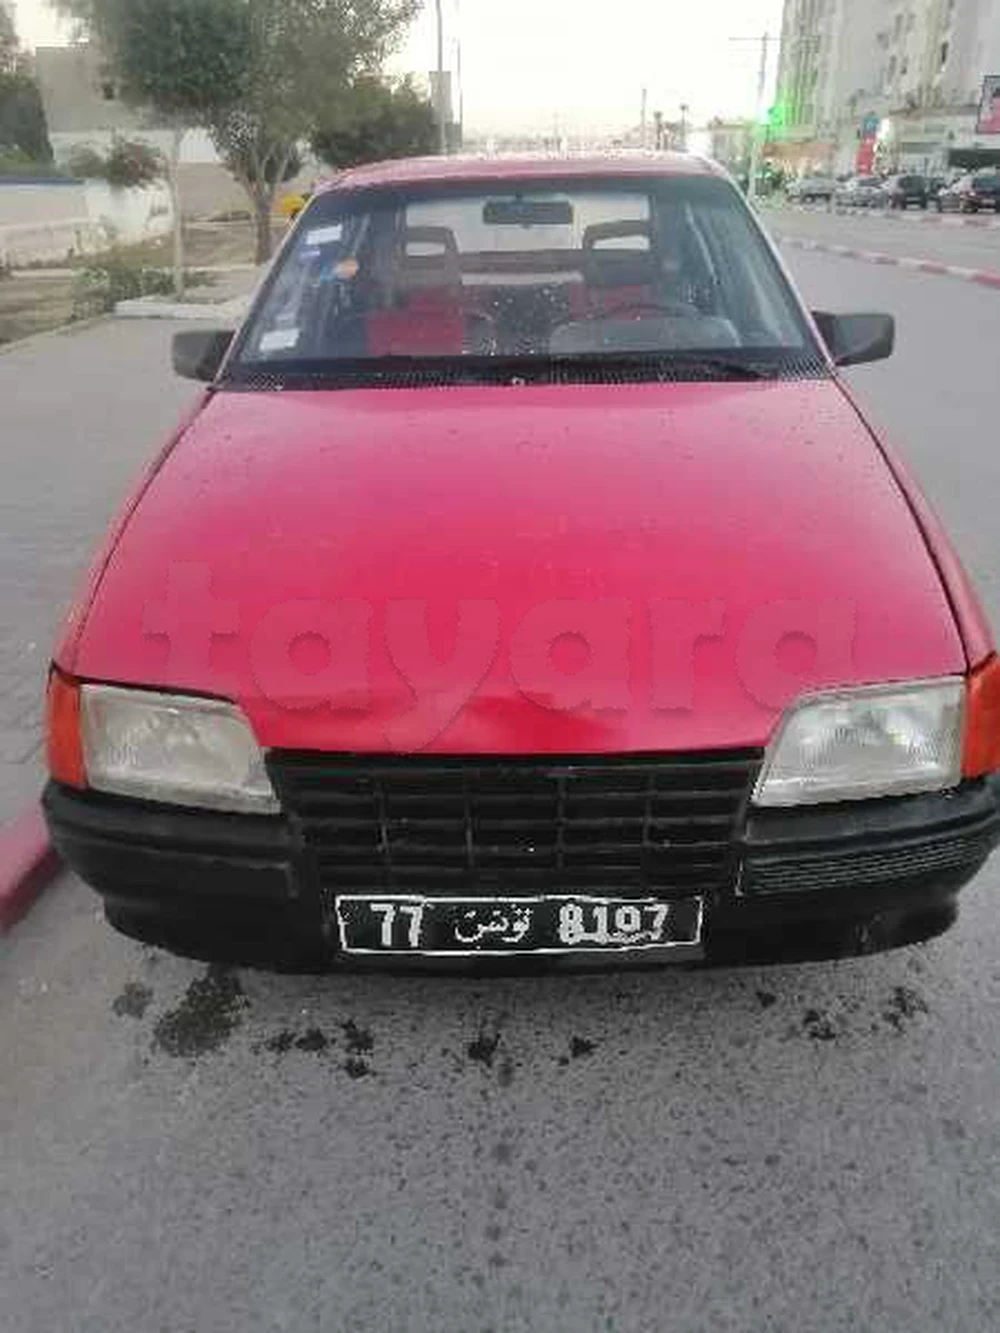fiat: (43, 139, 1000, 1037)
